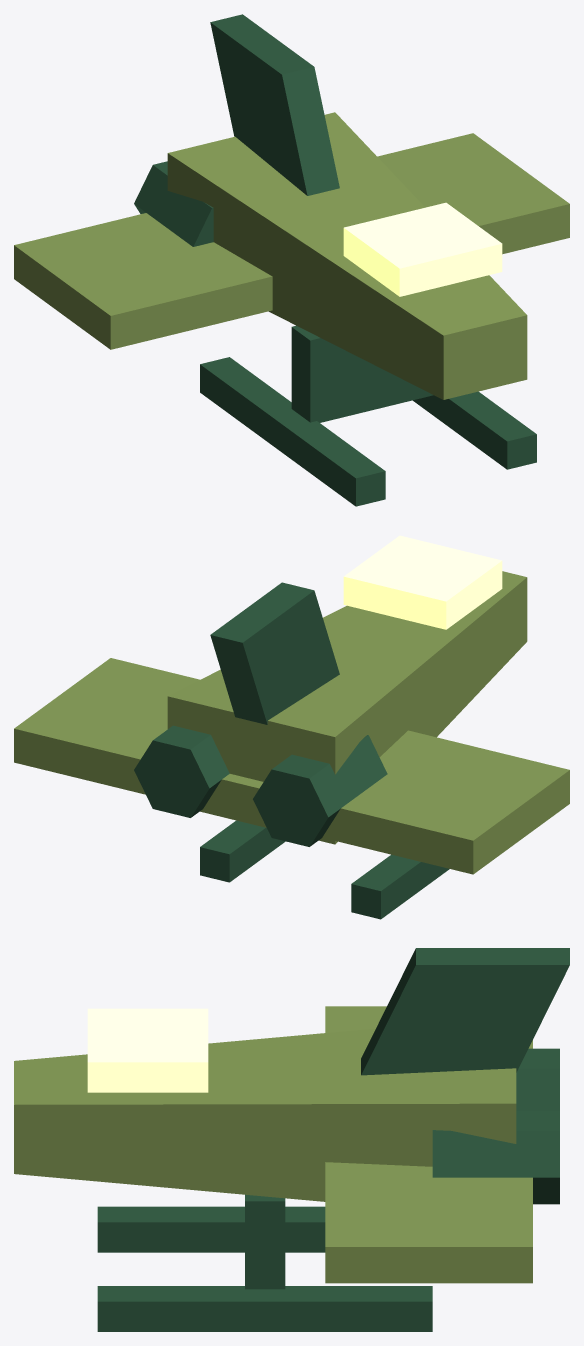
Rendered from shuttle.glb.
The picture shows the model from 3 angles, top to bottom: view 1: azimuth 30°, elevation 25°; view 2: azimuth 150°, elevation 25°; view 3: azimuth 270°, elevation 25°; orthographic projection. The views are drawn at different scales.
Parts seen in each view (by area): view 1: Body, Wings, Fin, Canopy, SkidL, Struts, SkidR, EngL; view 2: Wings, Body, Fin, Canopy, EngL, EngR, SkidL, SkidR; view 3: Body, Wings, Fin, SkidR, Canopy, SkidL, EngR, Struts, EngL.
Boxes of the visible parts, left/top/right/bottom form: Body: left=167, top=112, right=527, bottom=399; Wings: left=14, top=133, right=569, bottom=349; Fin: left=210, top=14, right=339, bottom=195; Canopy: left=343, top=202, right=502, bottom=296; SkidL: left=200, top=357, right=385, bottom=506; Struts: left=291, top=325, right=433, bottom=422; SkidR: left=413, top=391, right=536, bottom=469; EngL: left=134, top=161, right=213, bottom=246; Wings: left=14, top=658, right=569, bottom=874; Body: left=167, top=571, right=527, bottom=844; Fin: left=210, top=582, right=339, bottom=724; Canopy: left=343, top=535, right=502, bottom=629; EngL: left=253, top=735, right=387, bottom=846; EngR: left=134, top=725, right=229, bottom=817; SkidL: left=351, top=854, right=449, bottom=919; SkidR: left=200, top=820, right=285, bottom=882; Body: left=14, top=1028, right=516, bottom=1201; Wings: left=325, top=1006, right=532, bottom=1283; Fin: left=361, top=948, right=569, bottom=1075; SkidR: left=97, top=1286, right=432, bottom=1331; Canopy: left=87, top=1008, right=208, bottom=1092; SkidL: left=97, top=1206, right=325, bottom=1252; EngR: left=432, top=1111, right=559, bottom=1204; Struts: left=245, top=1194, right=285, bottom=1289; EngL: left=516, top=1048, right=559, bottom=1110.
Bounding box in the file's own units: 1.7 × 1.08 × 1.66.
